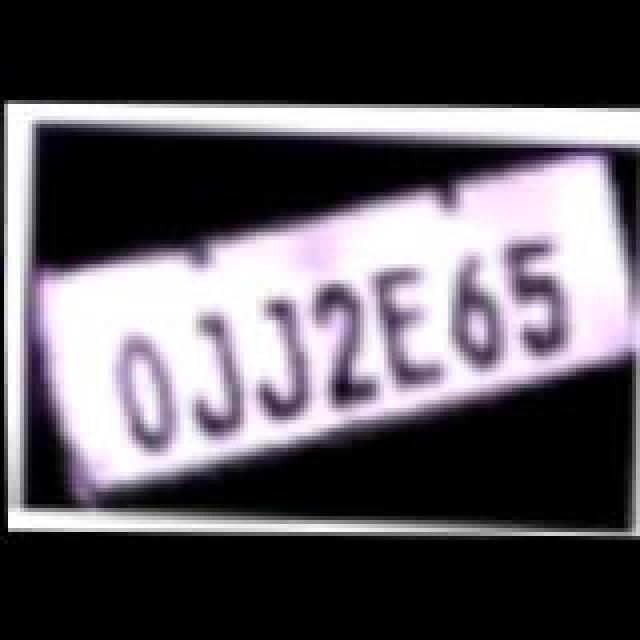2: (288, 276, 400, 408)
5: (482, 228, 598, 356)
6: (424, 244, 528, 372)
E: (350, 258, 466, 390)
J: (224, 292, 336, 424), (162, 304, 270, 440)
O: (90, 326, 194, 458)
